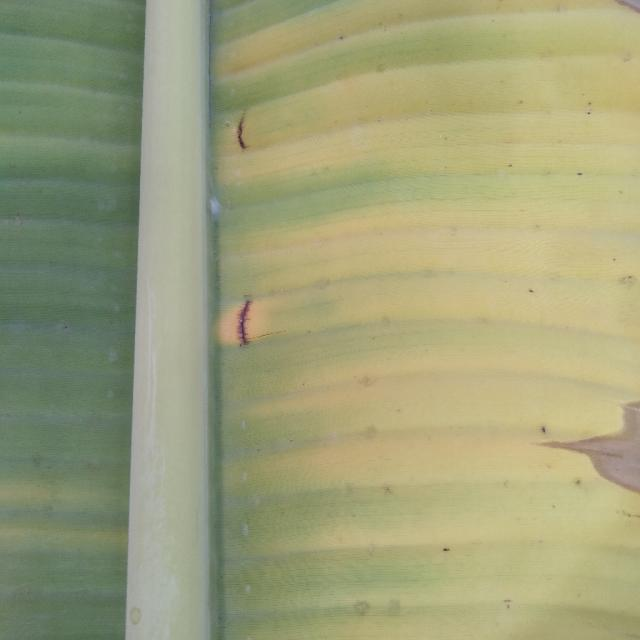Cordana: (192, 0, 640, 640)
